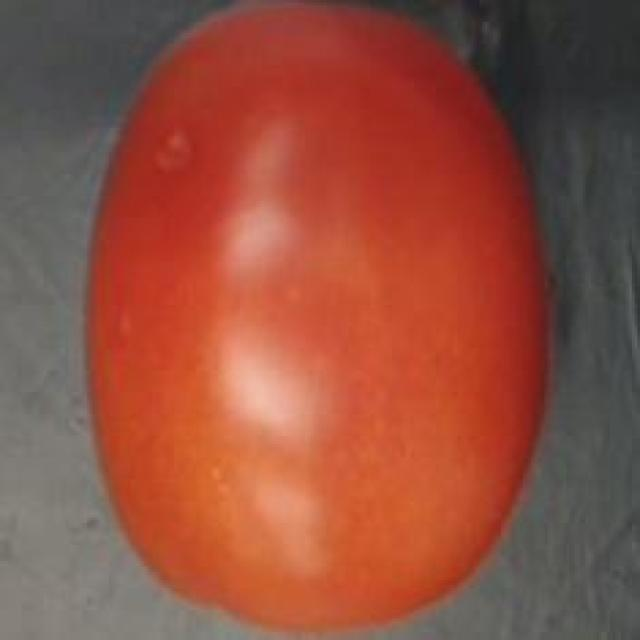ripe tomato: (65, 0, 586, 640)
